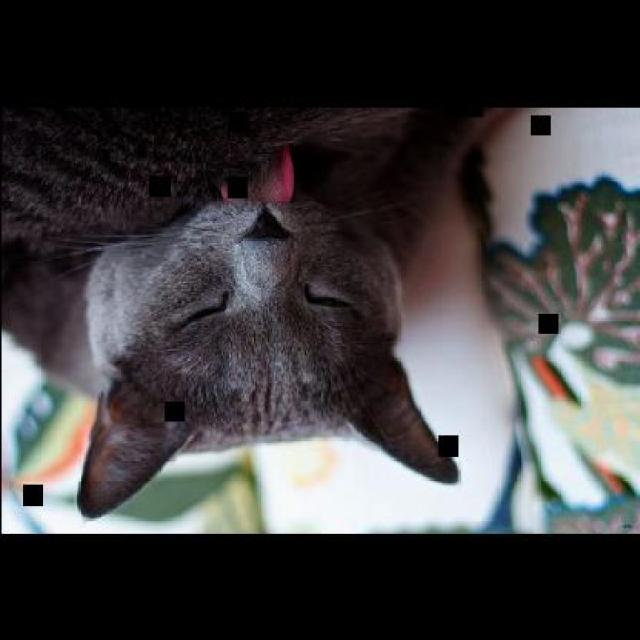unauthorized: (0, 101, 497, 518)
